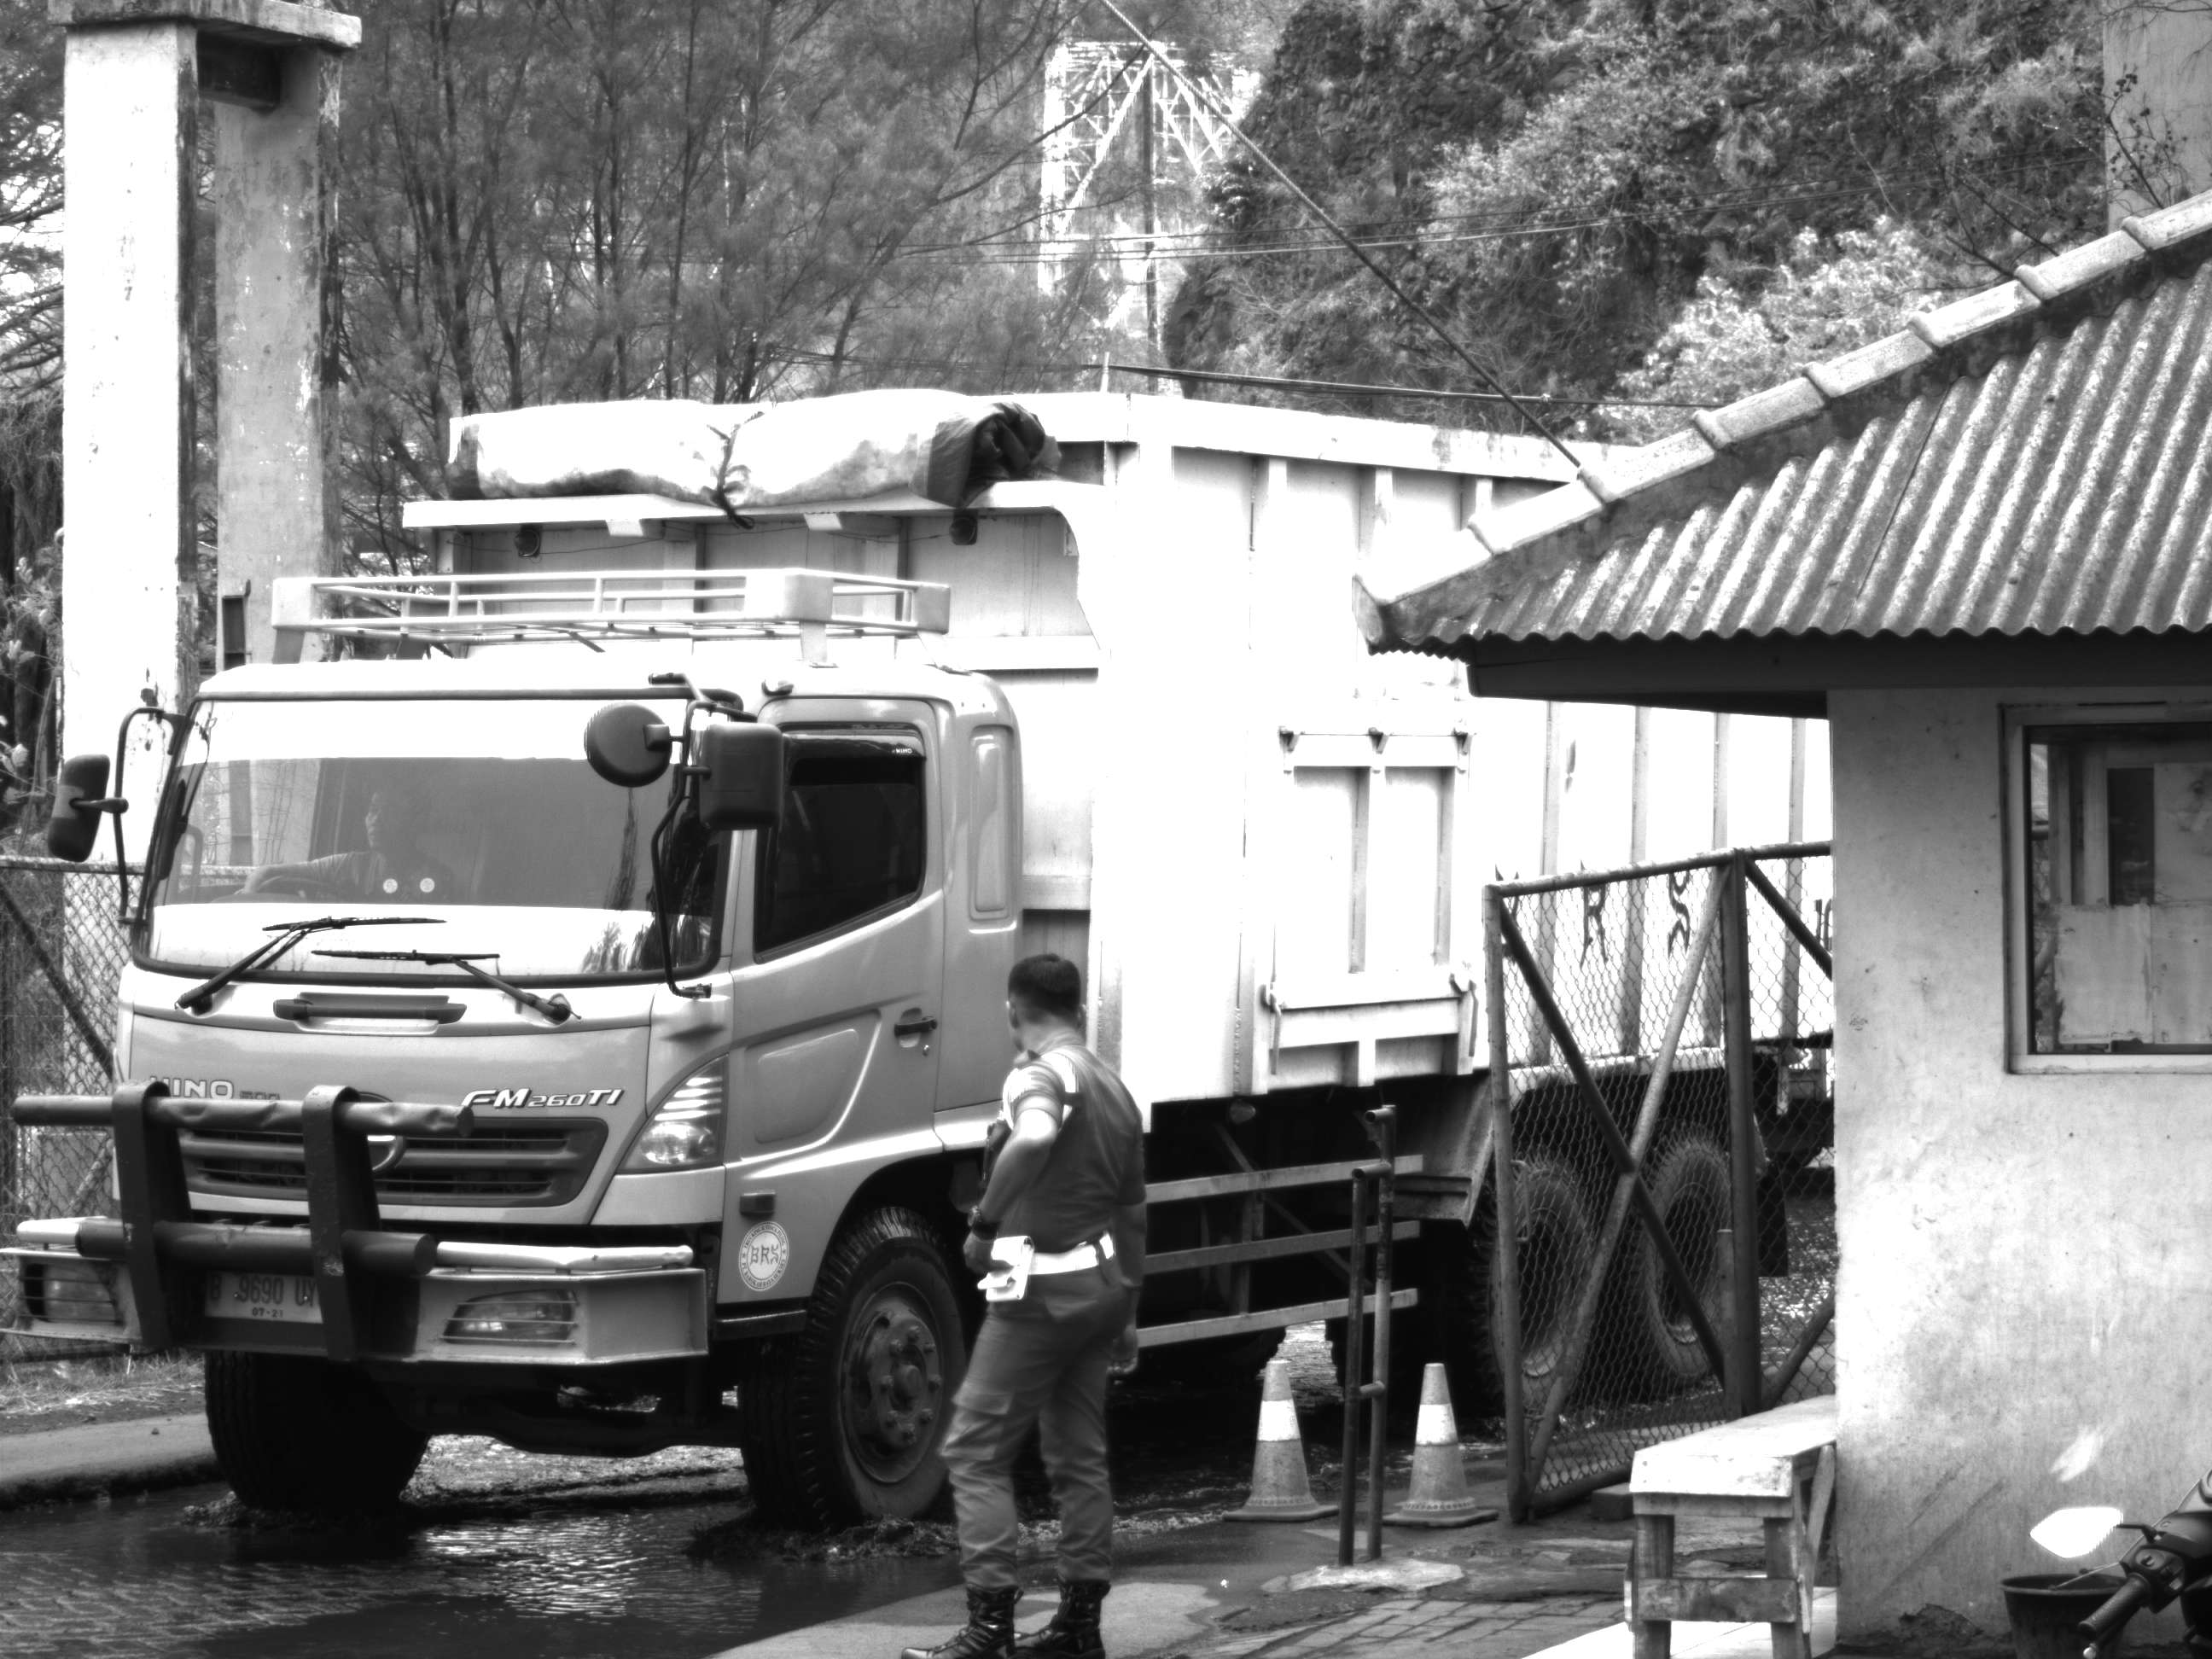day_truck_front: (10, 574, 1037, 1546)
plate: (199, 1272, 321, 1327)
